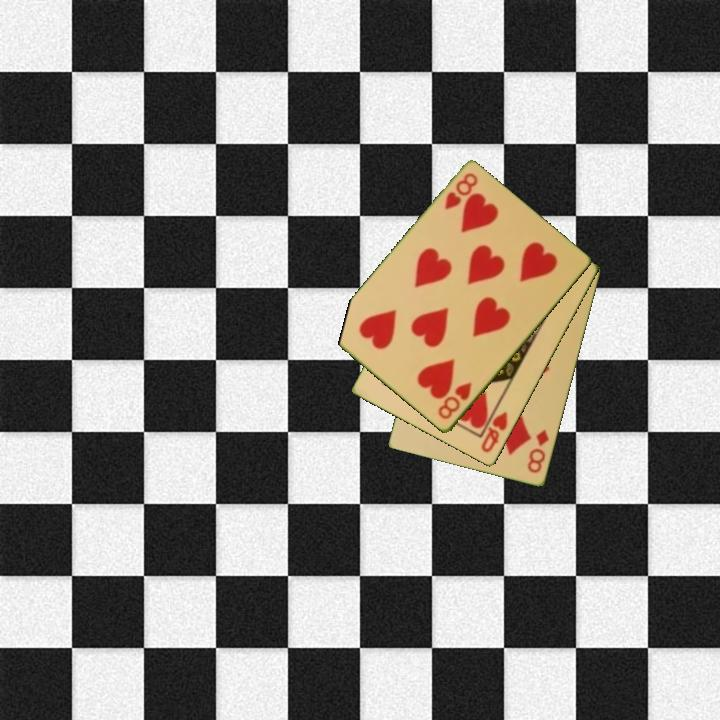8d: (524, 426, 552, 476)
8h: (434, 379, 475, 423), (441, 169, 481, 213)
Qh: (478, 408, 511, 456)
